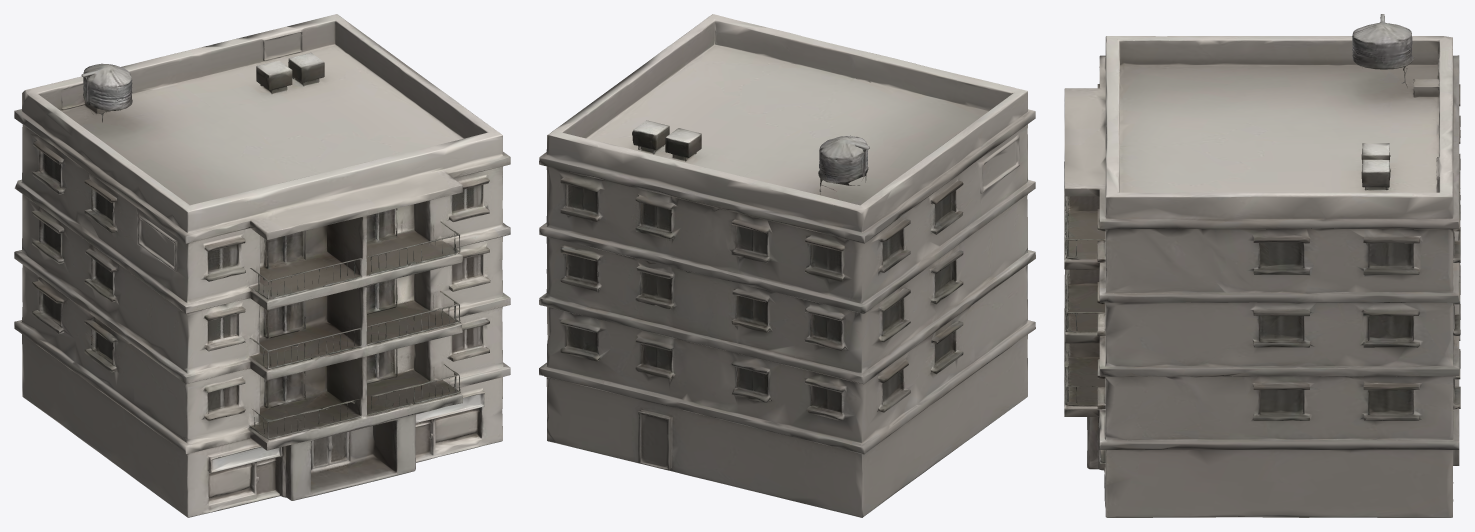
File: predio_residencial.glb
3 renders of one model, left to right at view 1: azimuth 30°, elevation 25°; view 2: azimuth 150°, elevation 25°; view 3: azimuth 270°, elevation 25°, orthographic. The views are drawn at different scales.
Visible parts, largest first — view 1: tripo_node_34c1f393-d7ad-467a-ad52-aa74600541f5; view 2: tripo_node_34c1f393-d7ad-467a-ad52-aa74600541f5; view 3: tripo_node_34c1f393-d7ad-467a-ad52-aa74600541f5.
Boxes of the visible parts, <box> form: tripo_node_34c1f393-d7ad-467a-ad52-aa74600541f5: <box>14,14,510,517</box>; tripo_node_34c1f393-d7ad-467a-ad52-aa74600541f5: <box>539,14,1035,517</box>; tripo_node_34c1f393-d7ad-467a-ad52-aa74600541f5: <box>1064,14,1460,517</box>.
Size of the model in its own units: 1 by 1 by 1.
Materials: 1 (1 with a texture image).
